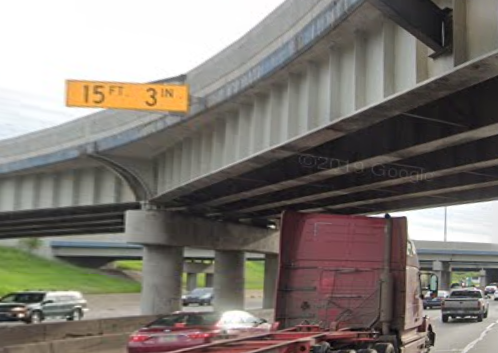1: (79, 82, 92, 104)
3: (142, 84, 159, 111)
5: (89, 82, 106, 107)
overheadsign: (62, 78, 191, 114)
